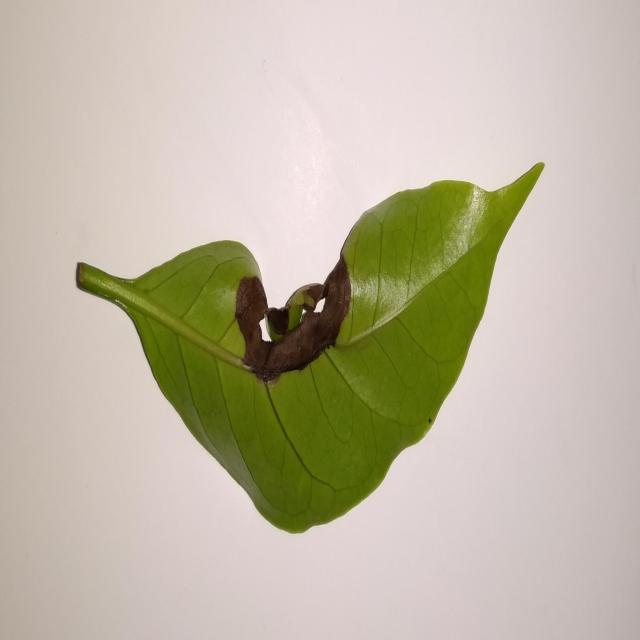phoma: (235, 251, 351, 381)
